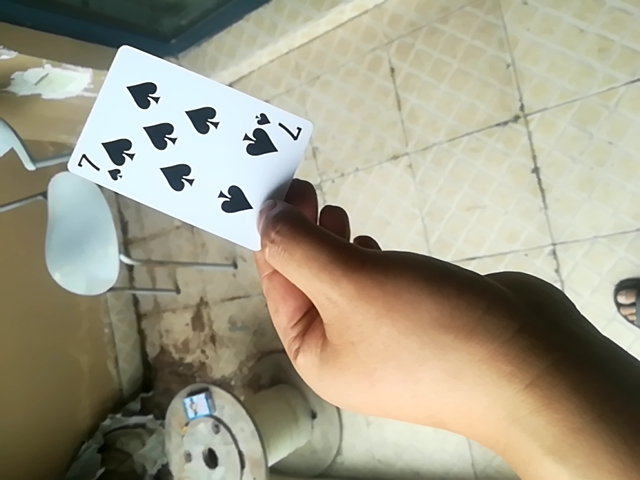ht 7: (59, 44, 312, 255)
